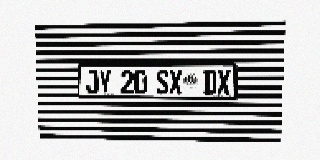0: (134, 70, 147, 94)
2: (121, 70, 134, 94)
D: (203, 70, 217, 94)
J: (86, 70, 98, 94)
S: (156, 70, 169, 94)
X: (217, 70, 231, 94), (169, 70, 182, 94)
Y: (98, 70, 111, 94)
